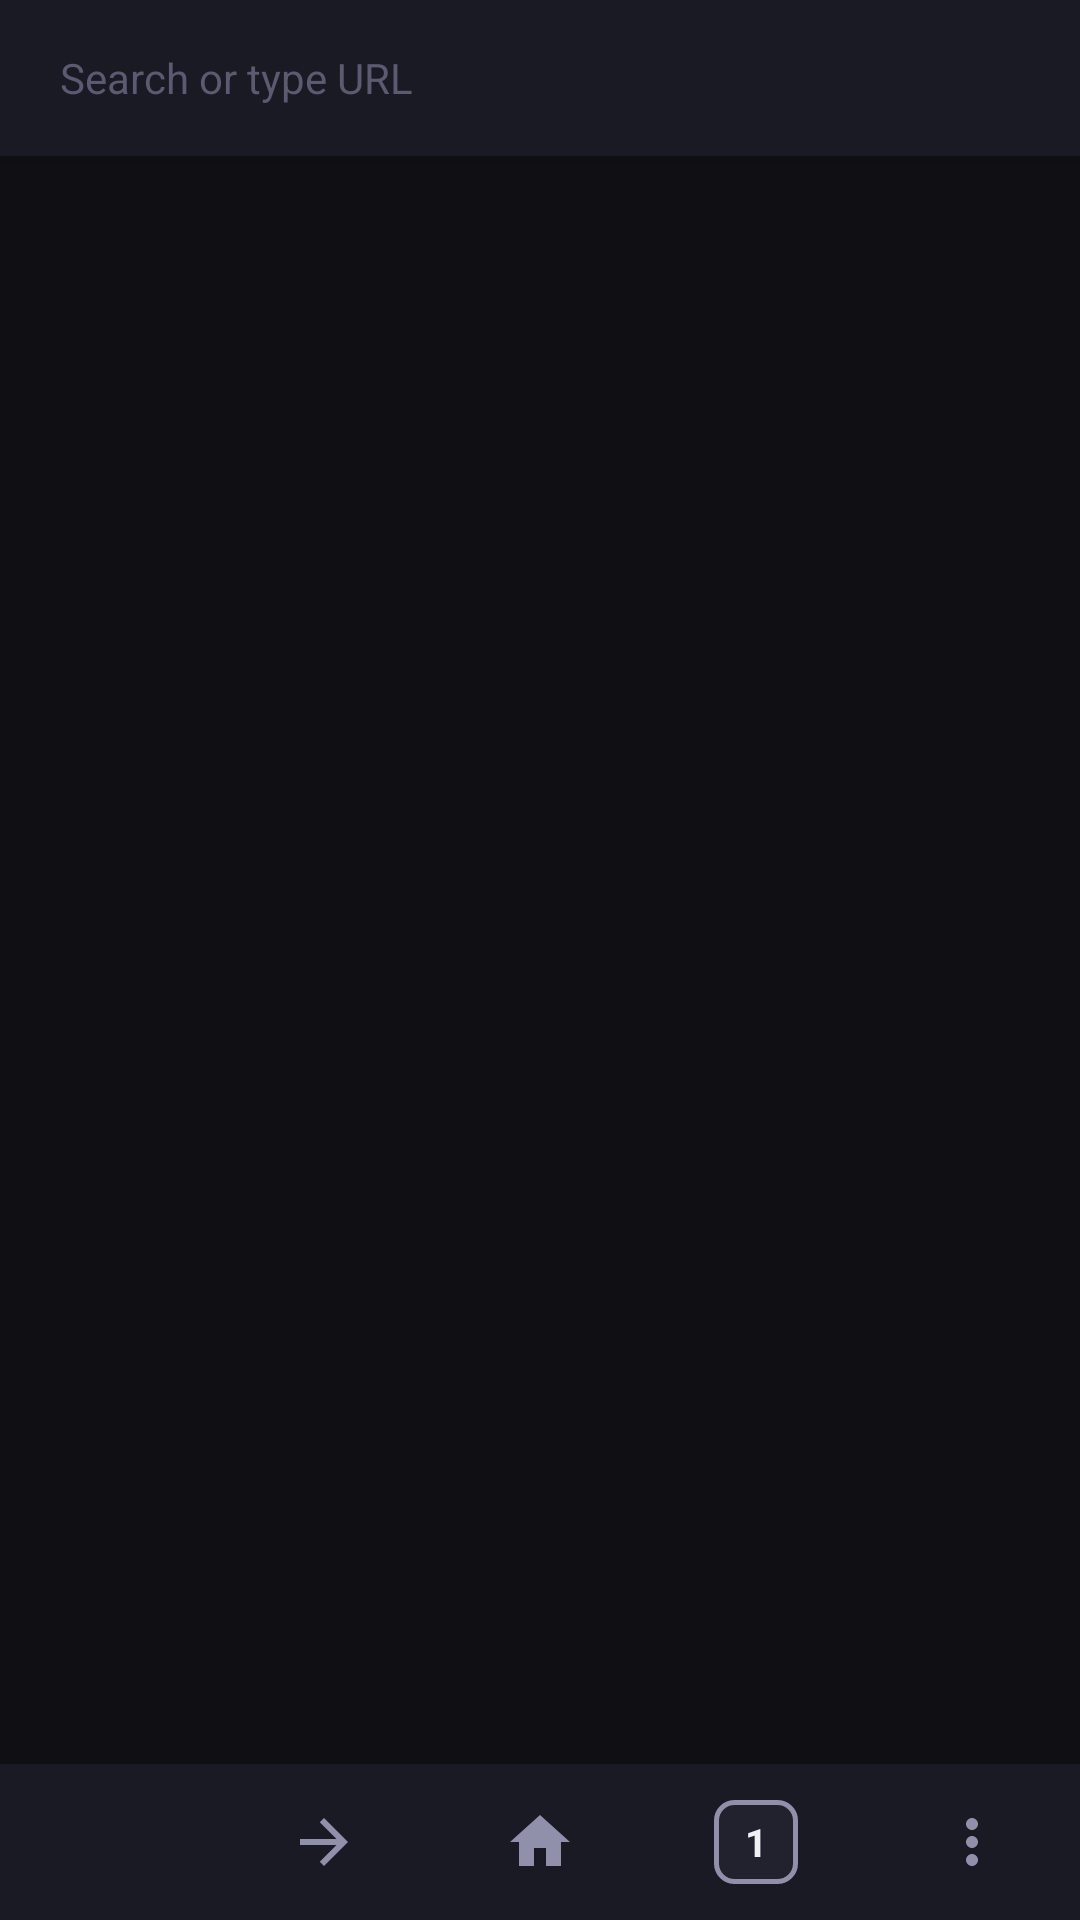

Where icons sit on this 1080 x 1920 app screen, as (x1,y1,x2,y2):
forward: (300,1818,348,1866)
home: (510,1815,570,1866)
menu: (966,1818,978,1866)
